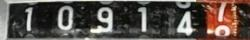digits: (205, 5, 238, 39), (90, 6, 114, 32), (176, 10, 196, 36), (57, 5, 73, 30), (136, 6, 146, 31), (24, 6, 33, 31)
